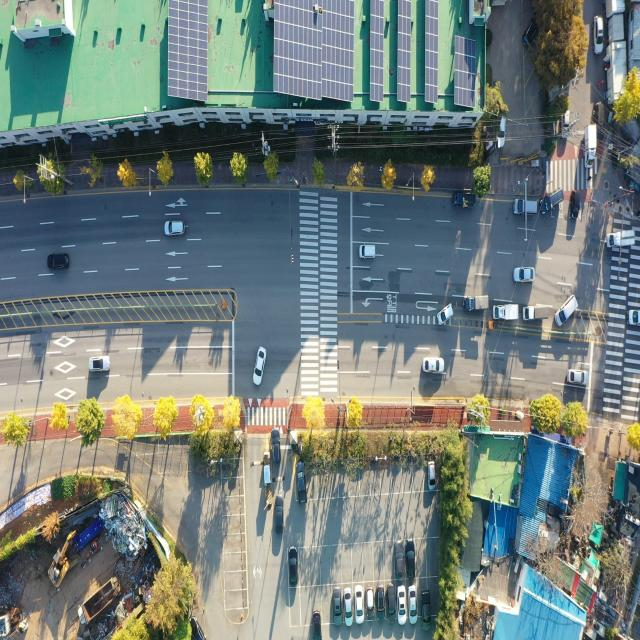car: (540, 187, 566, 218), (512, 196, 540, 218), (523, 16, 542, 47), (437, 297, 455, 327), (253, 347, 266, 386), (405, 538, 416, 582), (272, 496, 284, 536), (386, 584, 398, 623), (593, 12, 604, 54), (394, 539, 404, 580), (288, 548, 298, 588), (421, 590, 431, 630), (48, 252, 69, 269), (514, 267, 535, 284), (496, 116, 506, 151), (90, 356, 111, 372), (312, 612, 324, 640), (296, 467, 305, 504), (566, 371, 588, 386), (427, 457, 436, 493), (165, 220, 185, 236), (424, 357, 445, 372), (366, 588, 375, 623), (355, 588, 364, 622), (397, 587, 405, 624), (272, 428, 280, 465), (410, 587, 418, 623), (345, 590, 353, 626), (376, 586, 384, 622), (360, 244, 376, 258), (569, 190, 577, 218), (334, 596, 342, 622)
small_truck: (605, 227, 638, 253), (554, 295, 579, 329), (584, 124, 598, 173), (522, 303, 554, 322), (495, 298, 520, 322), (452, 192, 476, 210)
